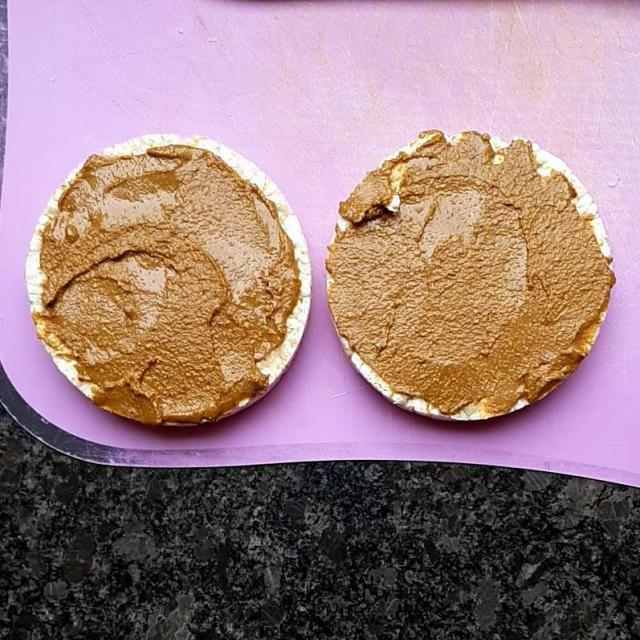butter-spread-puree-almond: (41, 134, 606, 411)
rice-waffels: (22, 141, 602, 429)
